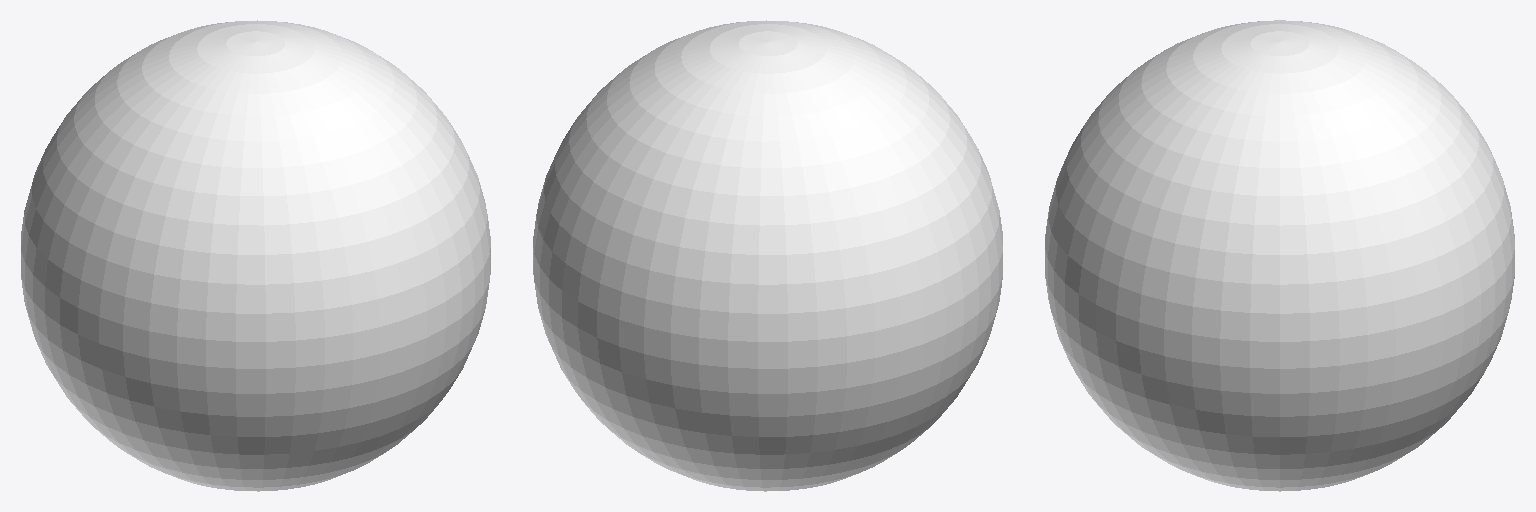
URDF robot description (ball.SLDPRT):
<?xml version="1.0" encoding="utf-8"?>
<!-- This URDF was automatically created by SolidWorks to URDF Exporter! Originally created by [author] ([email redacted]) 
     Commit Version: 1.5.1-0-g916b5db  Build Version: 1.5.7152.31018
     For more information, please see http://wiki.ros.org/sw_urdf_exporter -->
<robot
  name="ball.SLDPRT">
  <link
    name="ball">
    <inertial>
      <origin
        xyz="-2.6406E-18 0 0"
        rpy="0 0 0" />
      <mass
        value="3" />
      <inertia
        ixx="0.033701"
        ixy="0"
        ixz="0"
        iyy="0.033701"
        iyz="0"
        izz="0.033701" />
    </inertial>
    <visual>
      <origin
        xyz="0 0 0"
        rpy="1.5707963267949 0 0" />
      <geometry>
        <mesh
          filename="package://ball/meshes/ball.STL" />
      </geometry>
      <material
        name="">
        <color
          rgba="1 1 1 1" />
        <texture
          filename="package://ball/textures/" />
      </material>
    </visual>
    <collision>
      <origin
        xyz="0 0 0"
        rpy="1.5707963267949 0 0" />
      <geometry>
        <mesh
          filename="package://ball/meshes/ball.STL" />
      </geometry>
    </collision>
  </link>
</robot>

--- What the picture shows (computed from the rendered views, not written in the file) ---
The picture shows the robot from 3 angles, left to right: view 1: azimuth 30°, elevation 25°; view 2: azimuth 150°, elevation 25°; view 3: azimuth 270°, elevation 25°; orthographic projection.
Model ball.SLDPRT with 1 links and 0 joints (none), rooted at ball, posed all joints at 0.
Links seen in each view (by area): view 1: ball; view 2: ball; view 3: ball.
Link boxes in pixels (x1,y1,x2,y2): ball: (21,20,490,491); ball: (533,20,1002,491); ball: (1045,20,1514,491).
Size in the robot's own frame: 0.2293 by 0.2294 by 0.23 metres.
1 mesh visuals loaded from 1 distinct referenced files (1 binary STL).